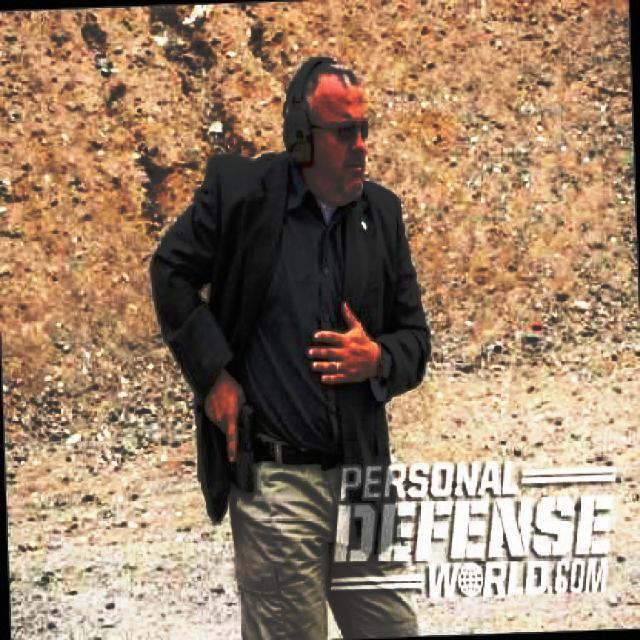Gun: (214, 396, 268, 496)
